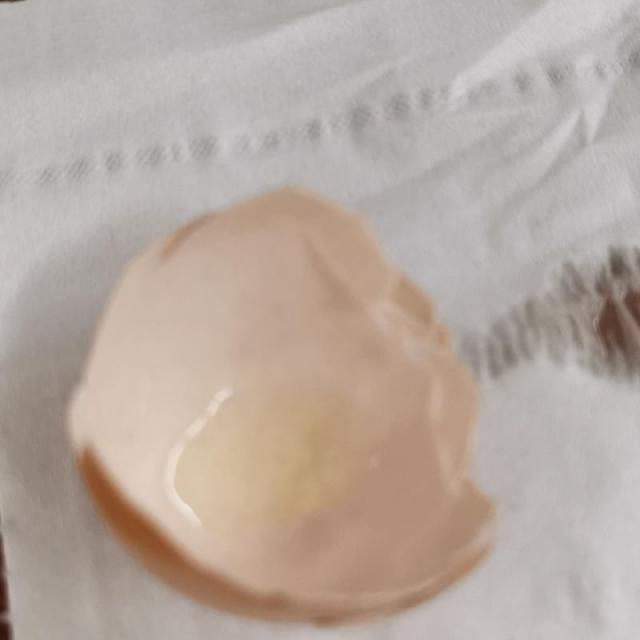egg shell: (63, 184, 506, 620)
